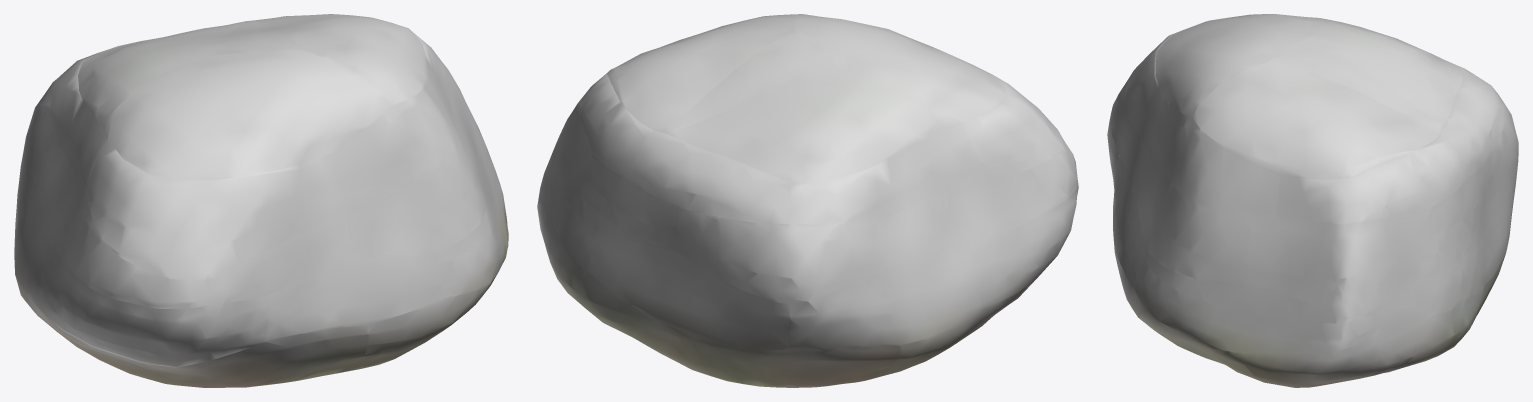
File: coal_rock_v2.glb
3 renders of one model, left to right at view 1: azimuth 30°, elevation 25°; view 2: azimuth 150°, elevation 25°; view 3: azimuth 270°, elevation 25°, orthographic. The views are drawn at different scales.
Parts seen in each view (by area): view 1: Chunk_28, Chunk_23, Chunk_10, Chunk_11, Chunk_16, Chunk_24, Chunk_18, Chunk_29, Chunk_04, Chunk_17, Chunk_27, Chunk_12 (+8 smaller); view 2: Chunk_27, Chunk_15, Chunk_08, Chunk_09, Chunk_16, Chunk_28, Chunk_29, Chunk_22, Chunk_21, Chunk_02, Chunk_10, Chunk_30 (+8 smaller); view 3: Chunk_29, Chunk_19, Chunk_12, Chunk_25, Chunk_28, Chunk_24, Chunk_00, Chunk_18, Chunk_27, Chunk_21, Chunk_30, Chunk_08 (+9 smaller).
Boxes of the visible parts, x1,y1,x2,y2 form: Chunk_28: (103, 50, 390, 179); Chunk_23: (85, 138, 349, 280); Chunk_10: (29, 239, 267, 367); Chunk_11: (267, 255, 444, 341); Chunk_16: (38, 143, 208, 308); Chunk_24: (340, 71, 460, 209); Chunk_18: (366, 124, 486, 255); Chunk_29: (253, 14, 428, 105); Chunk_04: (138, 325, 368, 387); Chunk_17: (208, 207, 372, 304); Chunk_27: (78, 22, 241, 126); Chunk_12: (435, 138, 507, 296); Chunk_27: (669, 65, 944, 183); Chunk_15: (675, 207, 897, 303); Chunk_08: (587, 229, 789, 350); Chunk_09: (788, 254, 981, 349); Chunk_16: (885, 146, 1077, 265); Chunk_28: (792, 14, 1007, 128); Chunk_29: (607, 14, 792, 132); Chunk_22: (790, 125, 983, 224); Chunk_21: (631, 130, 792, 224); Chunk_02: (693, 340, 900, 387); Chunk_10: (969, 180, 1078, 308); Chunk_30: (663, 29, 833, 134); Chunk_29: (1192, 63, 1440, 179); Chunk_19: (1245, 208, 1442, 317); Chunk_12: (1133, 251, 1377, 353); Chunk_25: (1276, 134, 1467, 224); Chunk_28: (1155, 14, 1309, 117); Chunk_24: (1151, 107, 1279, 221); Chunk_00: (1207, 310, 1453, 387); Chunk_18: (1136, 166, 1252, 283); Chunk_27: (1307, 17, 1462, 125); Chunk_21: (1440, 71, 1504, 178); Chunk_30: (1267, 39, 1442, 128); Chunk_08: (1459, 168, 1517, 299).
Size of the model in its own units: 2.74 by 1.56 by 2.18.
